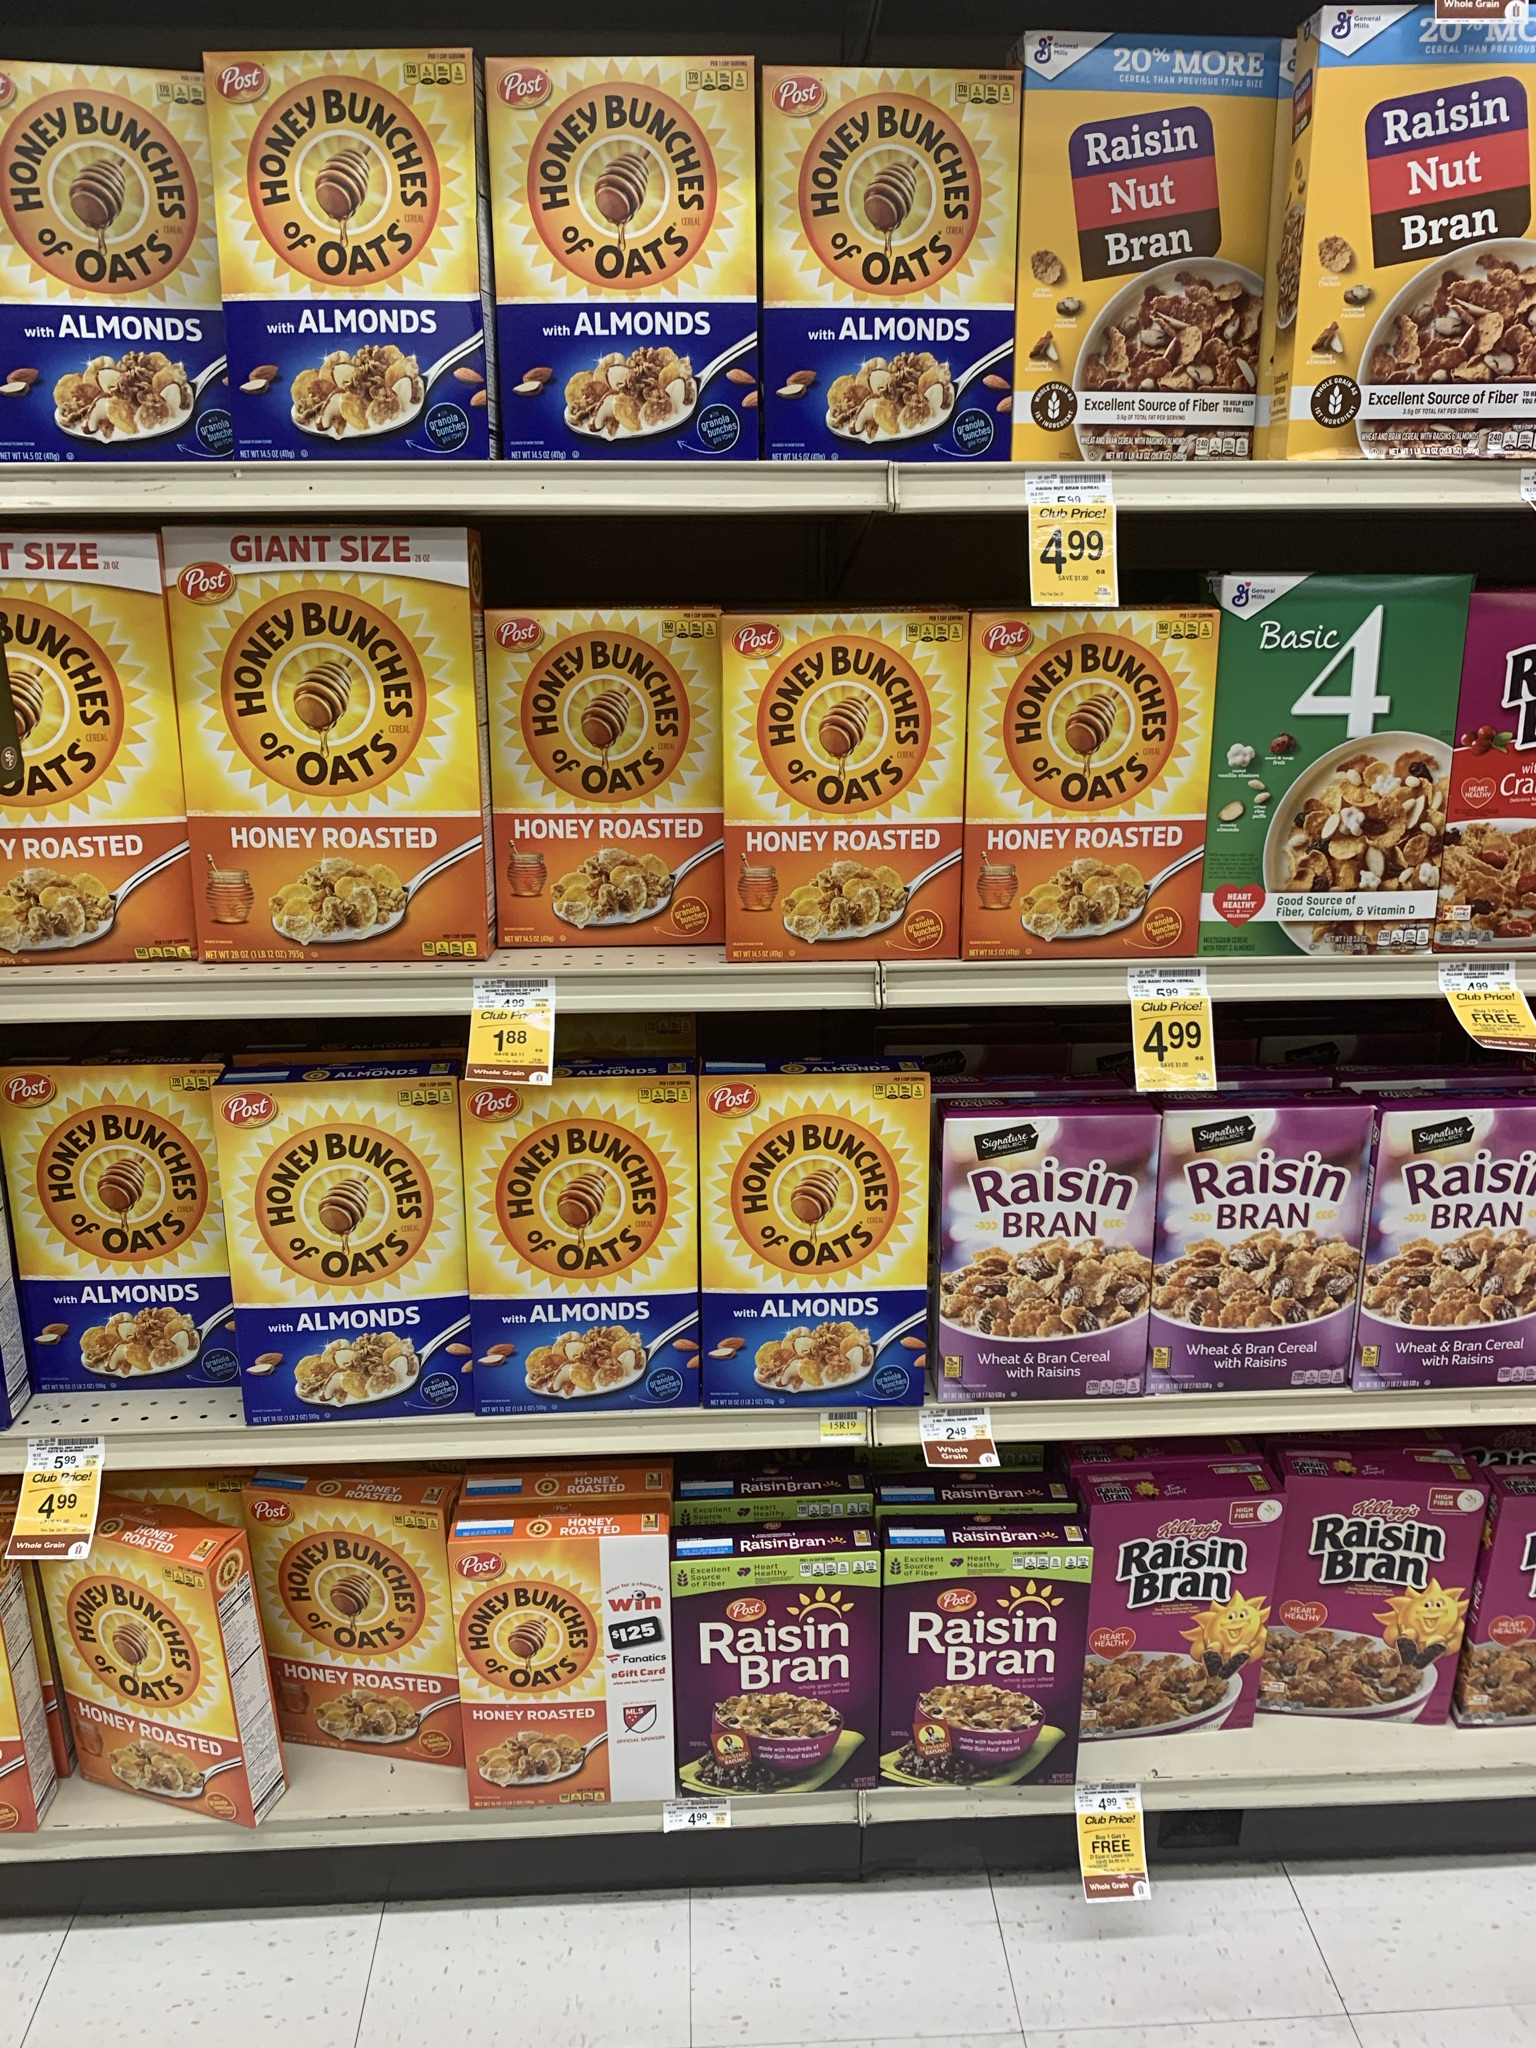cereal: (168, 532, 482, 951), (208, 47, 487, 472), (490, 60, 757, 466), (1021, 42, 1267, 466), (1220, 587, 1483, 964), (1317, 3, 1536, 452), (771, 69, 1012, 461), (215, 1087, 465, 1435), (728, 621, 976, 964), (978, 605, 1213, 964), (476, 614, 724, 947), (2, 74, 211, 461), (457, 1076, 697, 1413), (697, 1074, 933, 1414), (2, 535, 152, 980), (3, 1076, 216, 1384), (929, 1101, 1142, 1393), (463, 1535, 670, 1819), (245, 1496, 450, 1771), (1162, 1121, 1357, 1387), (676, 1551, 871, 1806), (879, 1546, 1066, 1793), (1384, 1098, 1536, 1398), (53, 1553, 219, 1804), (1265, 1500, 1446, 1719), (1079, 1509, 1252, 1737)
